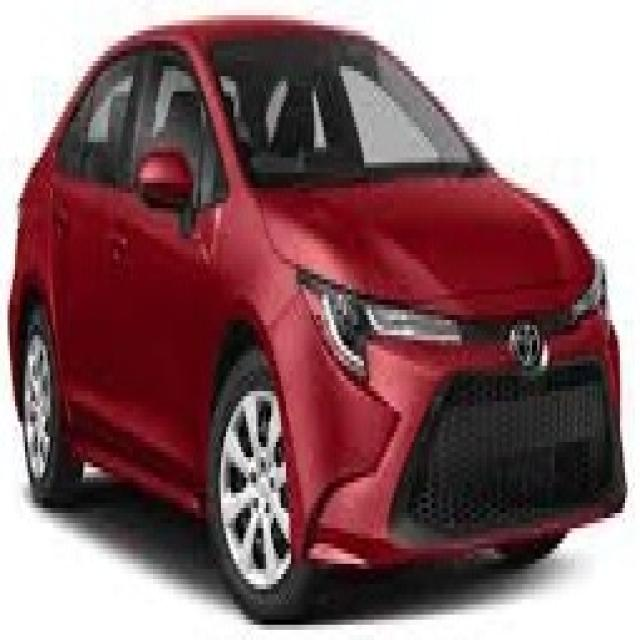maroon: (14, 26, 630, 592)
